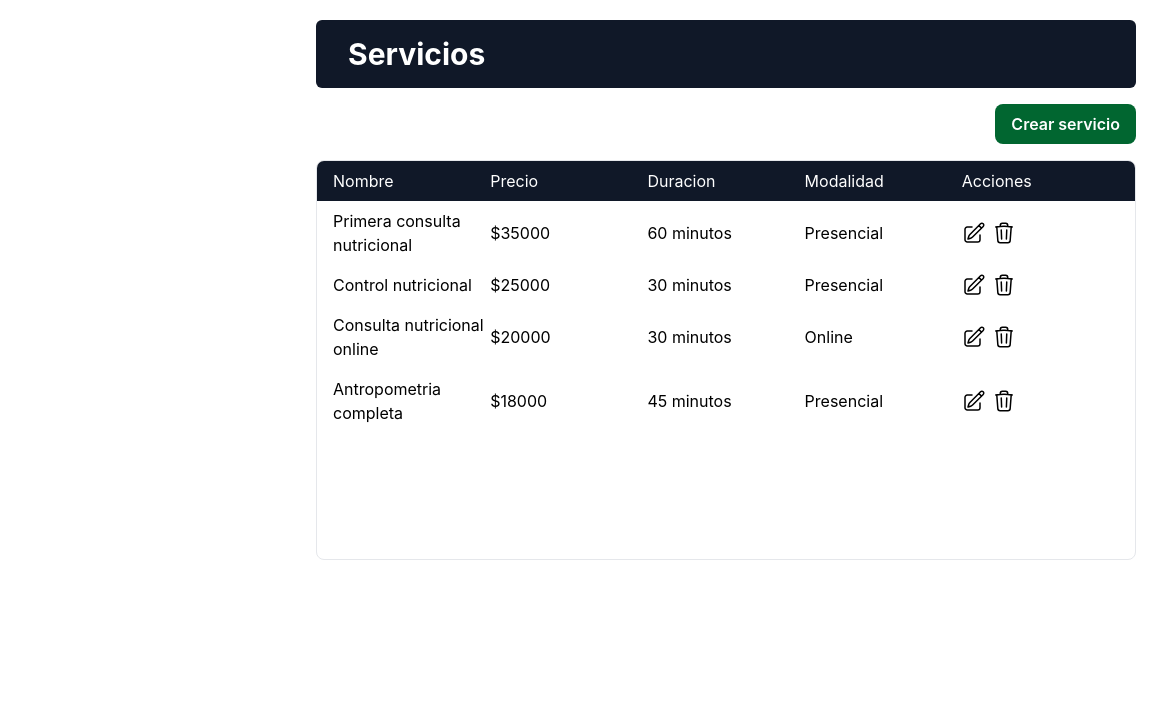
Test case: AdministracionServicios › elimina un servicio al confirmar la acción
Step 1. Click the 3rd button → (1004, 233), box [992, 221, 1016, 245]
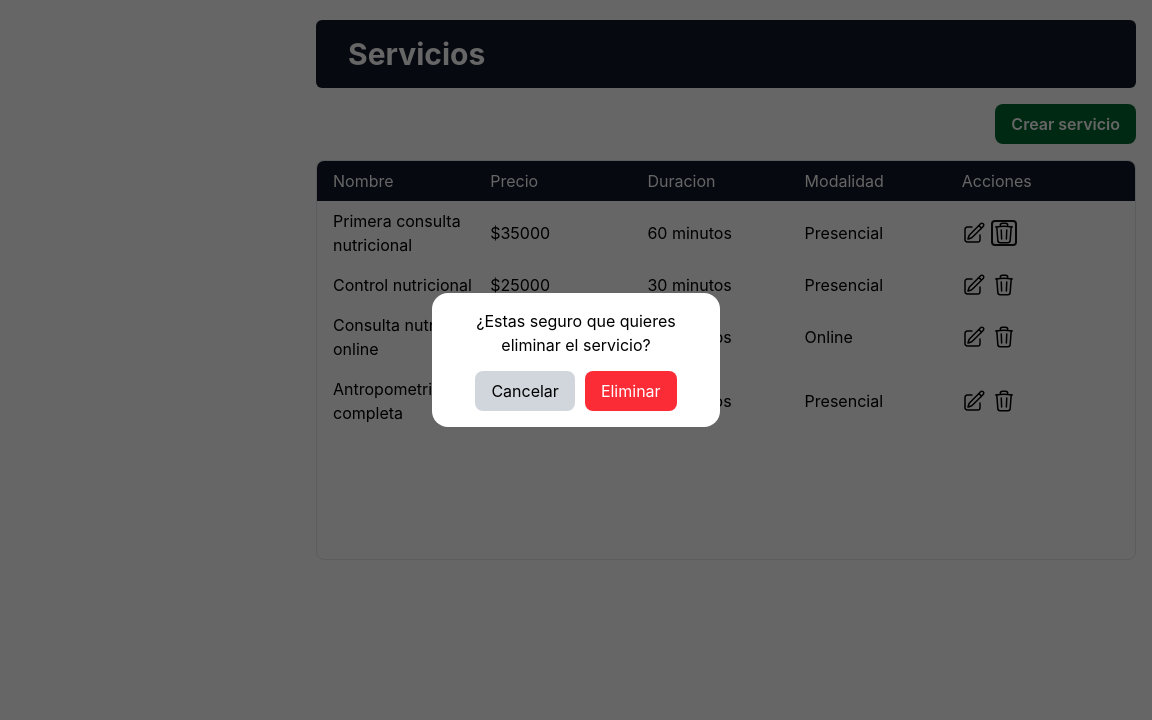
Step 2. Click the button "Eliminar" → (631, 391), box [585, 371, 677, 411]
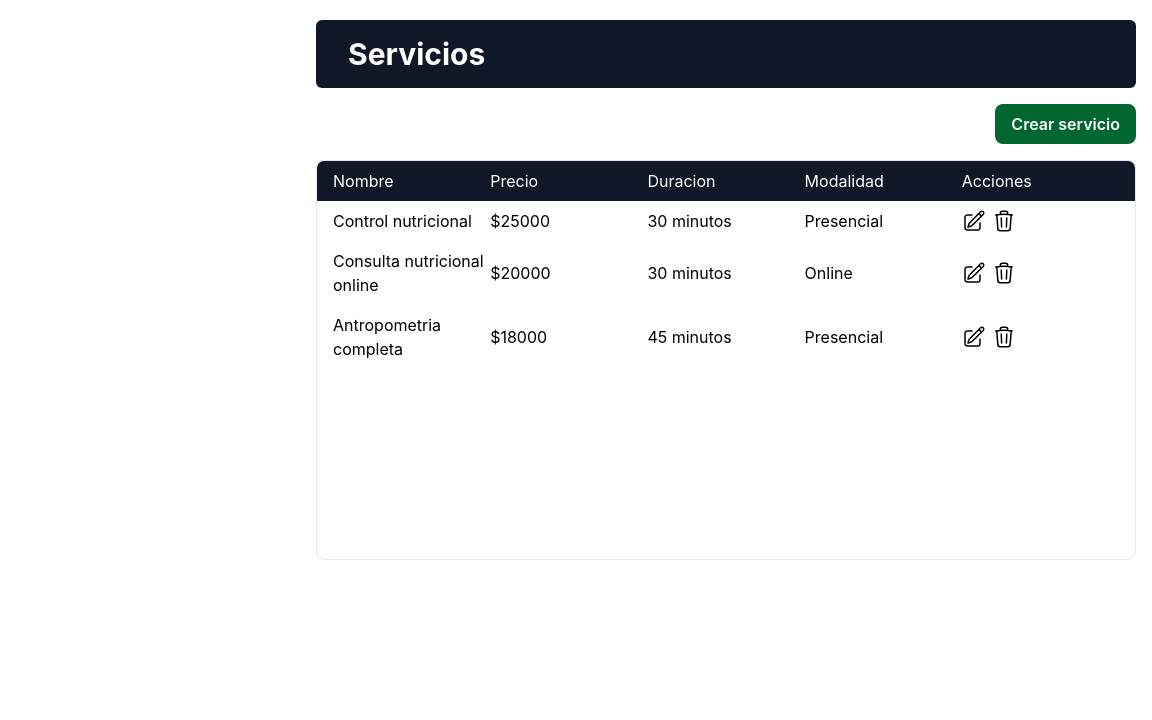
Now the text "Primera consulta nutricional" is gone
